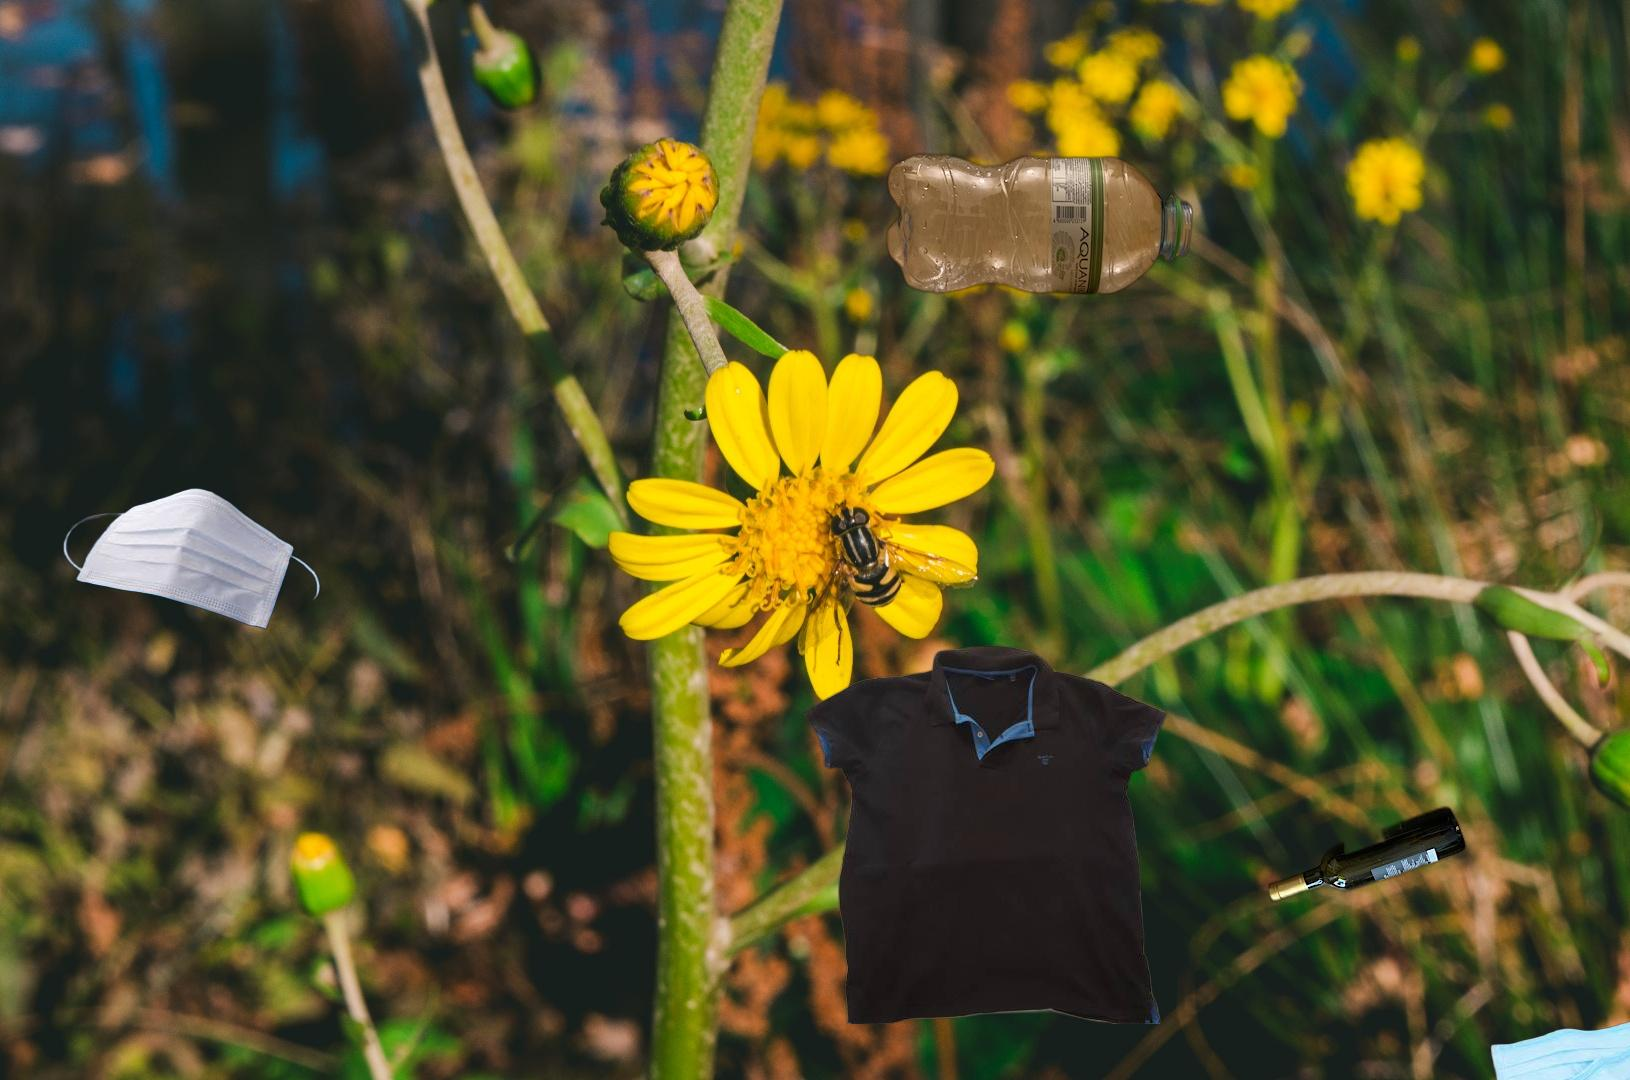clothes: (801, 642, 1170, 1025)
glass: (1264, 802, 1471, 906), (1600, 293, 1630, 620)
plastic-bottles: (883, 148, 1198, 299)
trash: (60, 482, 323, 635), (1488, 1019, 1630, 1080)
